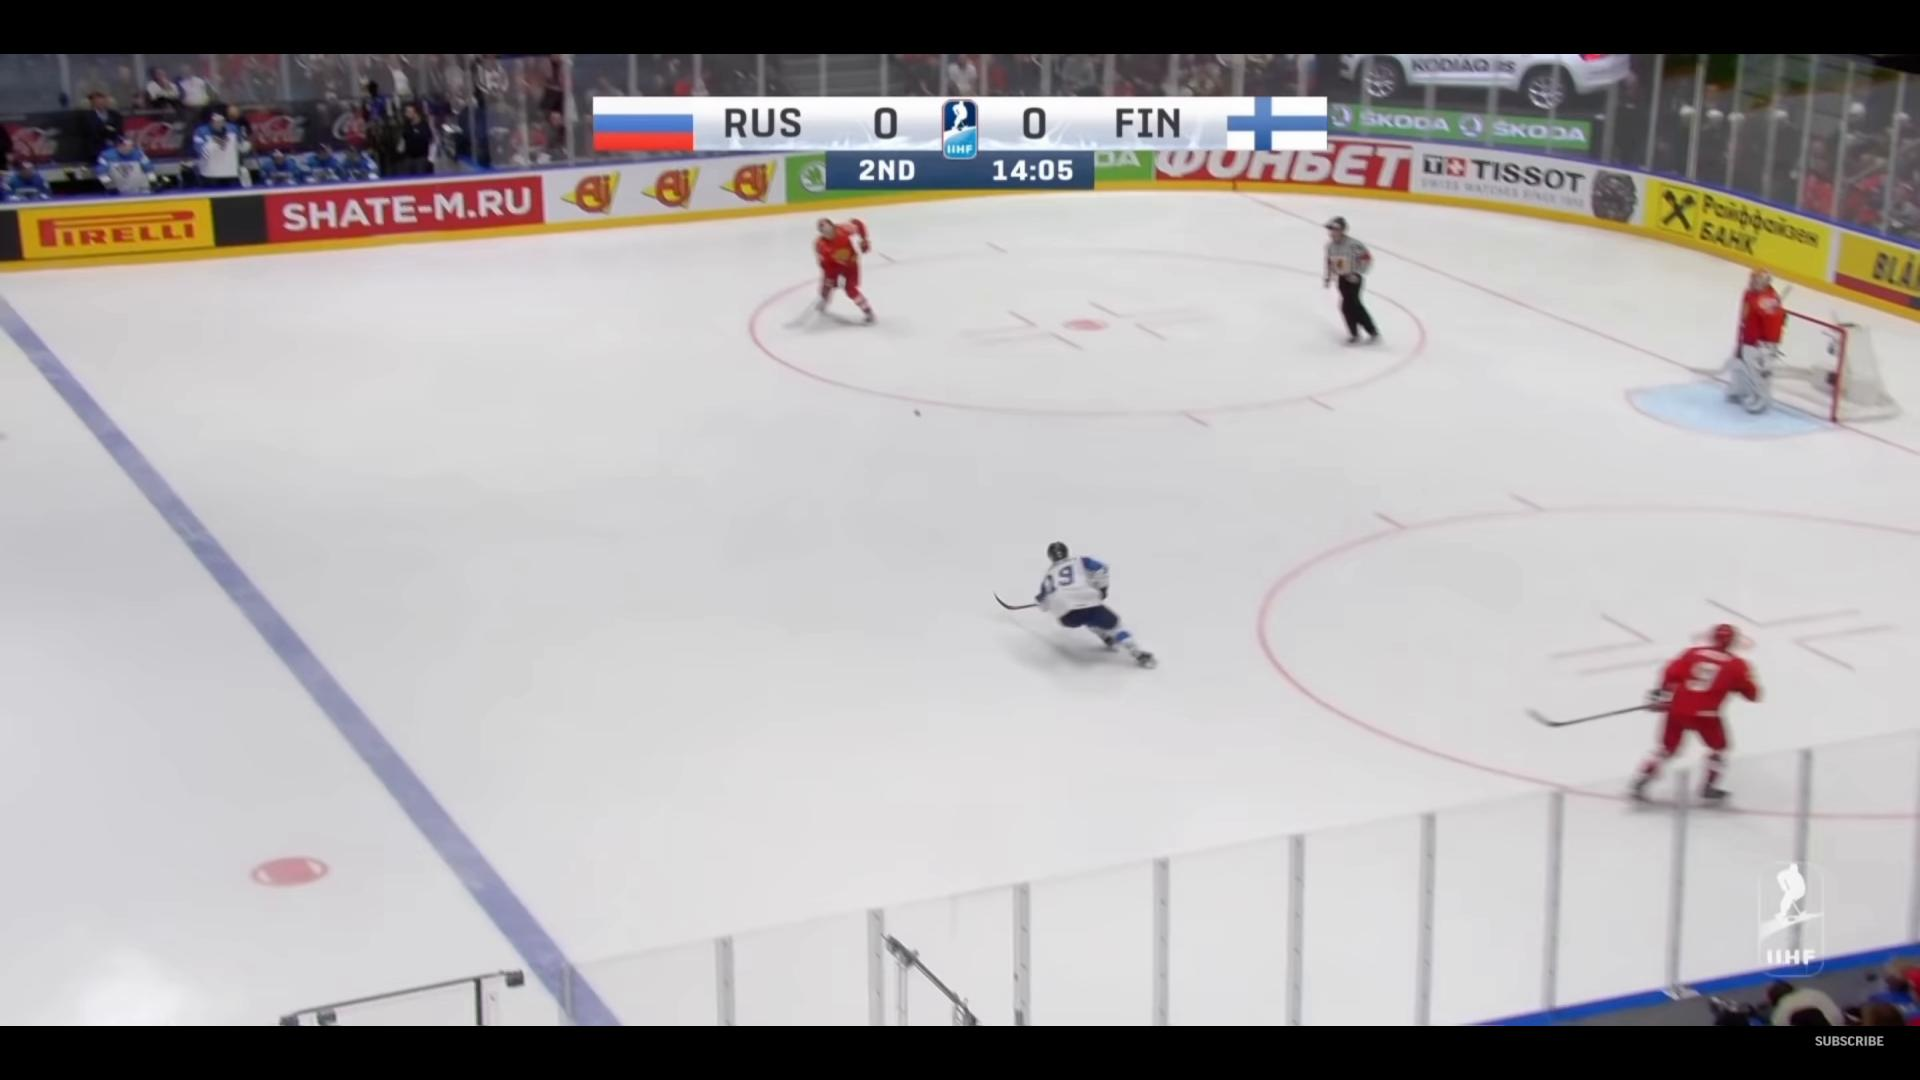puck: (912, 407, 921, 417)
